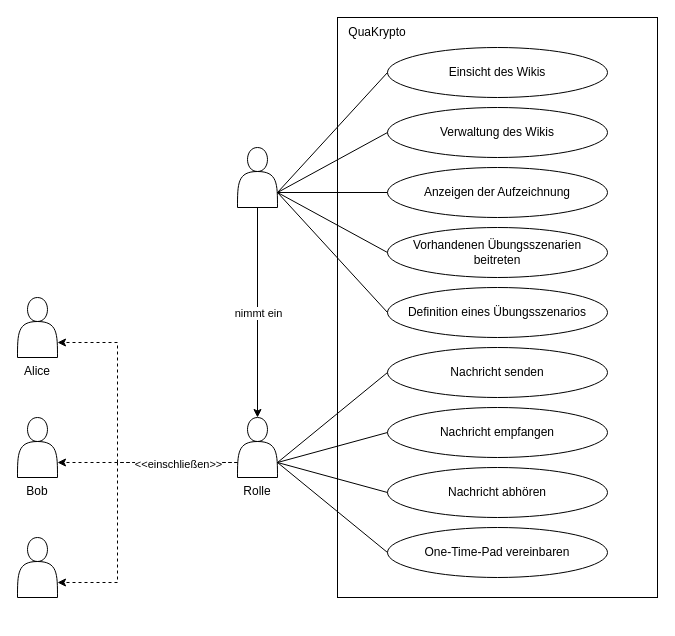
The diagram is 675 pixels wide and 636 high, and some of its shapes have lost their labels. The shapes that lost their labels are listed below. From the top down, each one's centre as x and y in pixels, then its label:
the point at 257,177: Benutzergruppe
the point at 37,567: Eve
